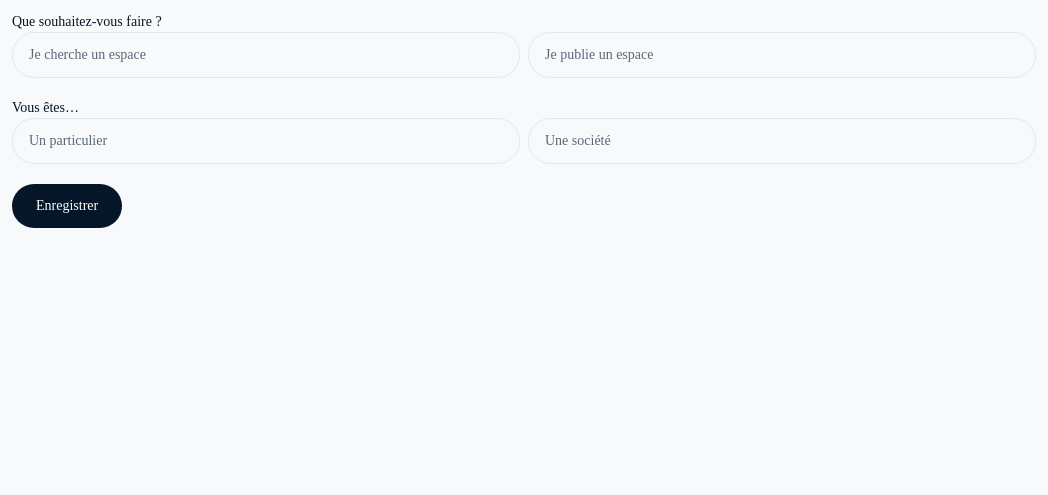
Test: CompleteProfileForm › requires activityType only for PUBLISH, and only when there is no organization yet
Step 1. Click the radio button labelled "Je publie un espace" → (599, 54), box [528,32,1036,78]
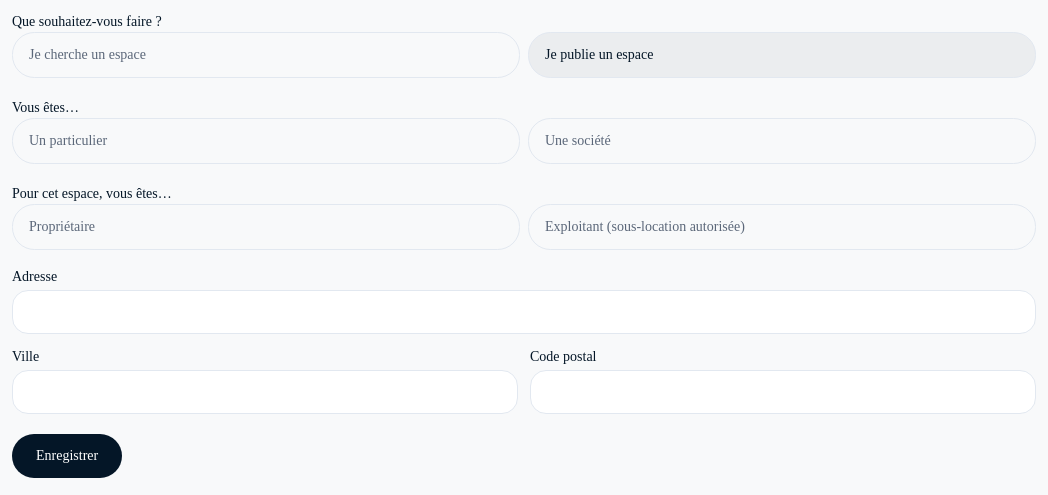
expect the radio button labelled "Propriétaire" is shown: met, box [12,204,520,250]
